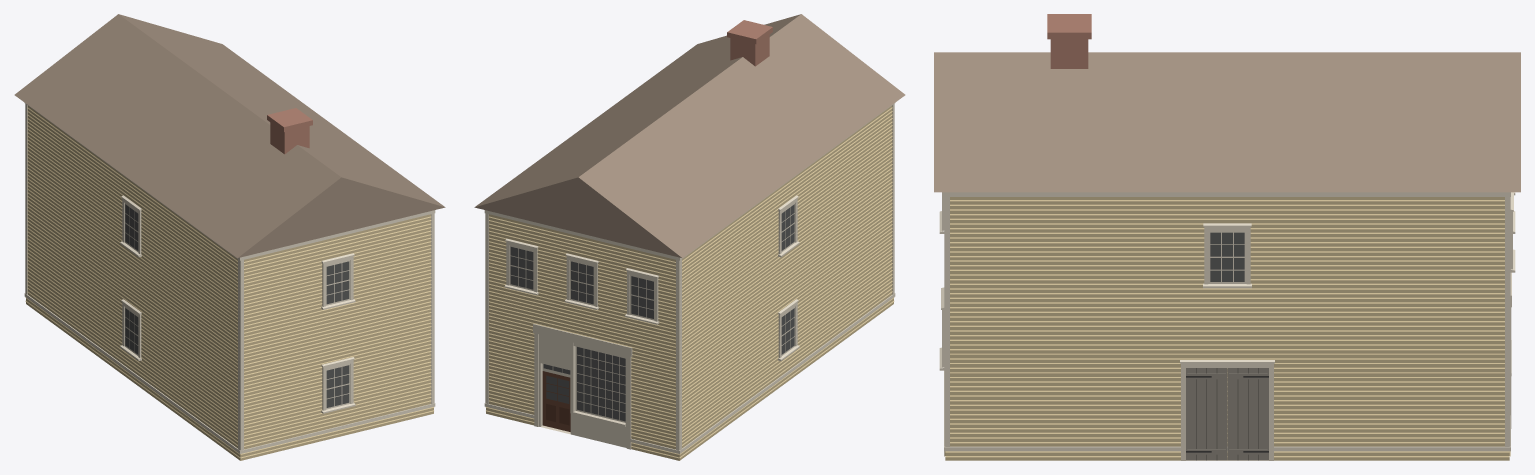
The model's file is recon_1835_blk_lake_clark_c3_03__inferred_1835.glb.
3 renders of one model, left to right at view 1: azimuth 30°, elevation 25°; view 2: azimuth 150°, elevation 25°; view 3: azimuth 270°, elevation 25°, orthographic. The views are drawn at different scales.
Parts seen in each view (by area): view 1: recon_1835_blk_lake_clark_c3_03__inferred_1835; view 2: recon_1835_blk_lake_clark_c3_03__inferred_1835; view 3: recon_1835_blk_lake_clark_c3_03__inferred_1835.
Part boxes in pixels (bbox=[...]): recon_1835_blk_lake_clark_c3_03__inferred_1835: bbox=[14, 14, 445, 460]; recon_1835_blk_lake_clark_c3_03__inferred_1835: bbox=[474, 14, 905, 460]; recon_1835_blk_lake_clark_c3_03__inferred_1835: bbox=[934, 14, 1520, 460].
Bounding box in the file's own units: 7.03 × 9.19 × 13.03.
